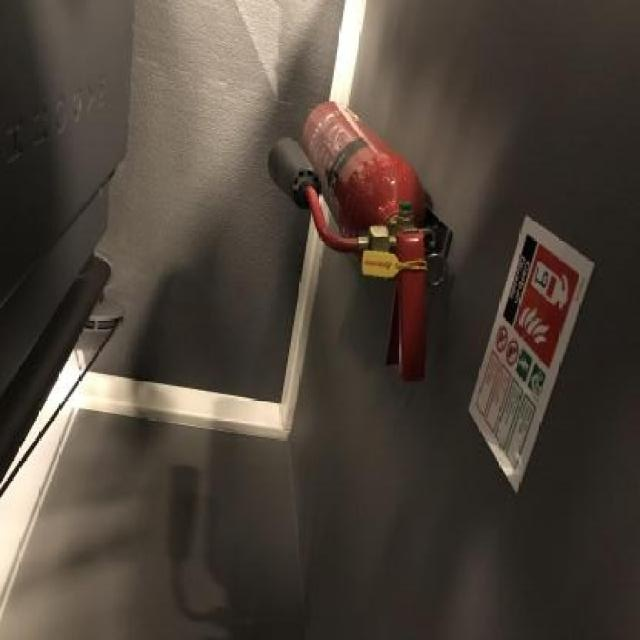fire extinguisher: (267, 102, 430, 382)
